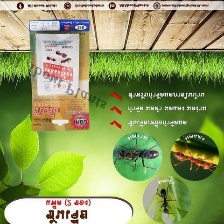book: (26, 17, 92, 133)
insecticide: (32, 28, 82, 97)
